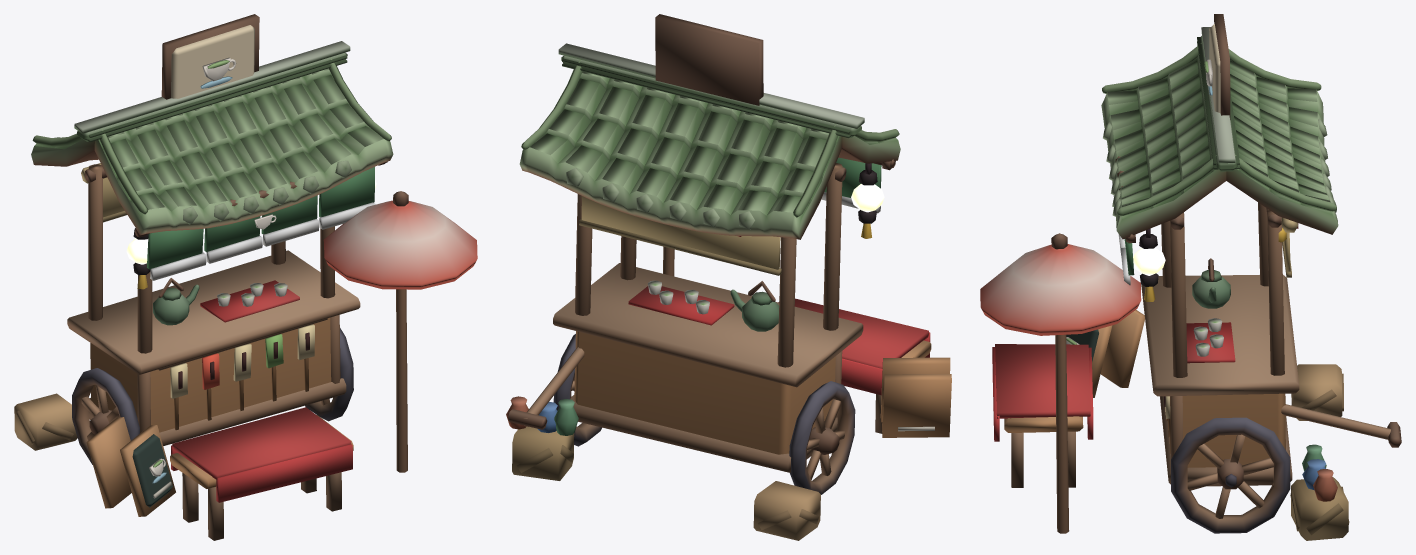
File: shop-1-v3.glb
3 renders of one model, left to right at view 1: azimuth 30°, elevation 25°; view 2: azimuth 150°, elevation 25°; view 3: azimuth 270°, elevation 25°, orthographic. The views are drawn at different scales.
Visible parts, largest first — view 1: shop-1-v3; view 2: shop-1-v3, window_glow; view 3: shop-1-v3, window_glow.
Part boxes in pixels (x1,y1,x2,y2): shop-1-v3: (14, 14, 477, 540); shop-1-v3: (506, 14, 951, 540); window_glow: (851, 184, 884, 212); shop-1-v3: (980, 14, 1401, 540); window_glow: (1133, 248, 1165, 275).
Bounding box in the file's own units: 2.32 × 2.59 × 2.25.
